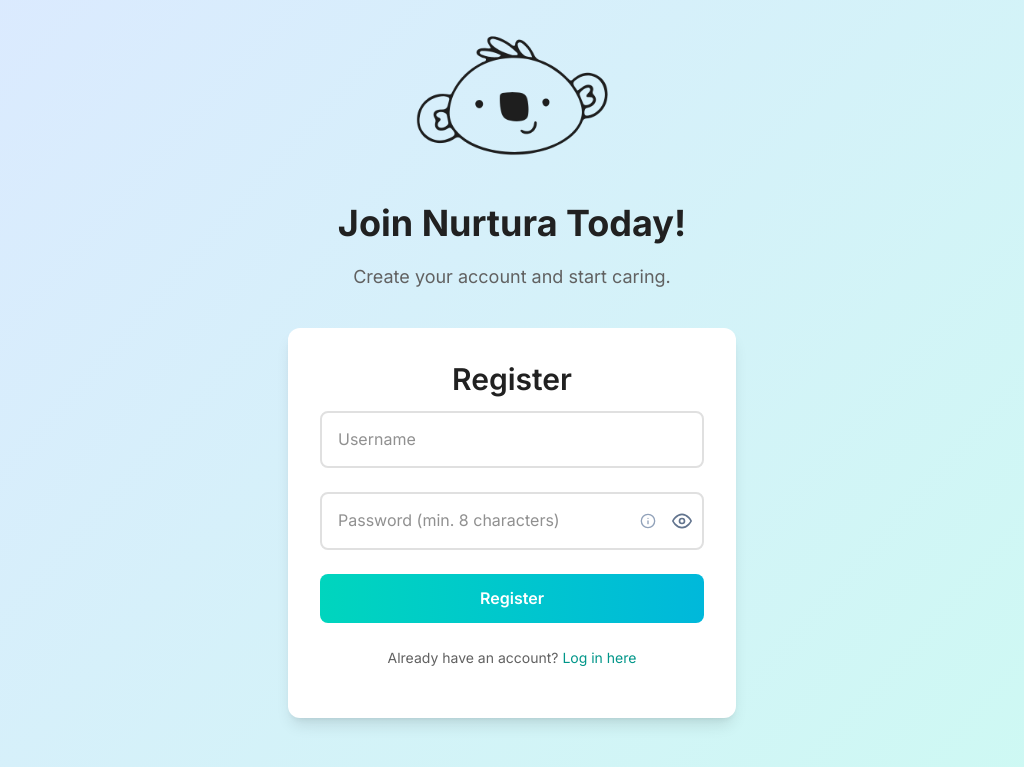
Registration Page › shows error for password without numbers
The image size is (1024, 767).
# Fill in registration form with invalid password
In the field with placeholder "Username": (512, 440) [320,411,704,469], type "NewUser"
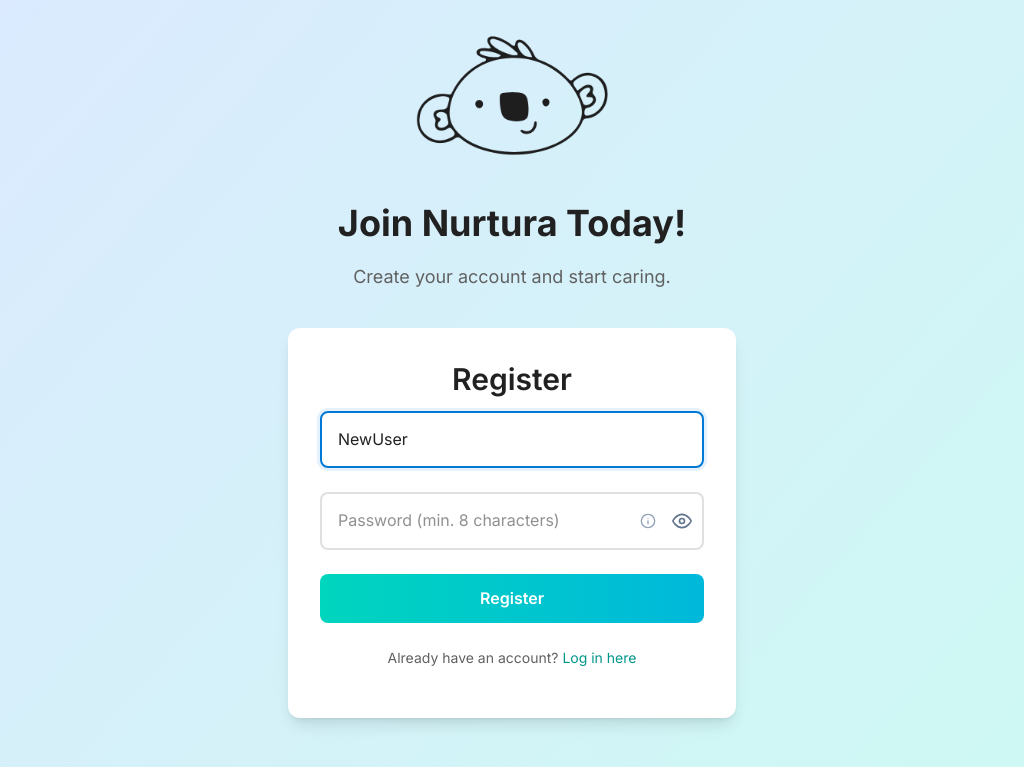
In the password field with placeholder "Password (min. 8 characters)": (512, 521) [320,492,704,550], type "password"
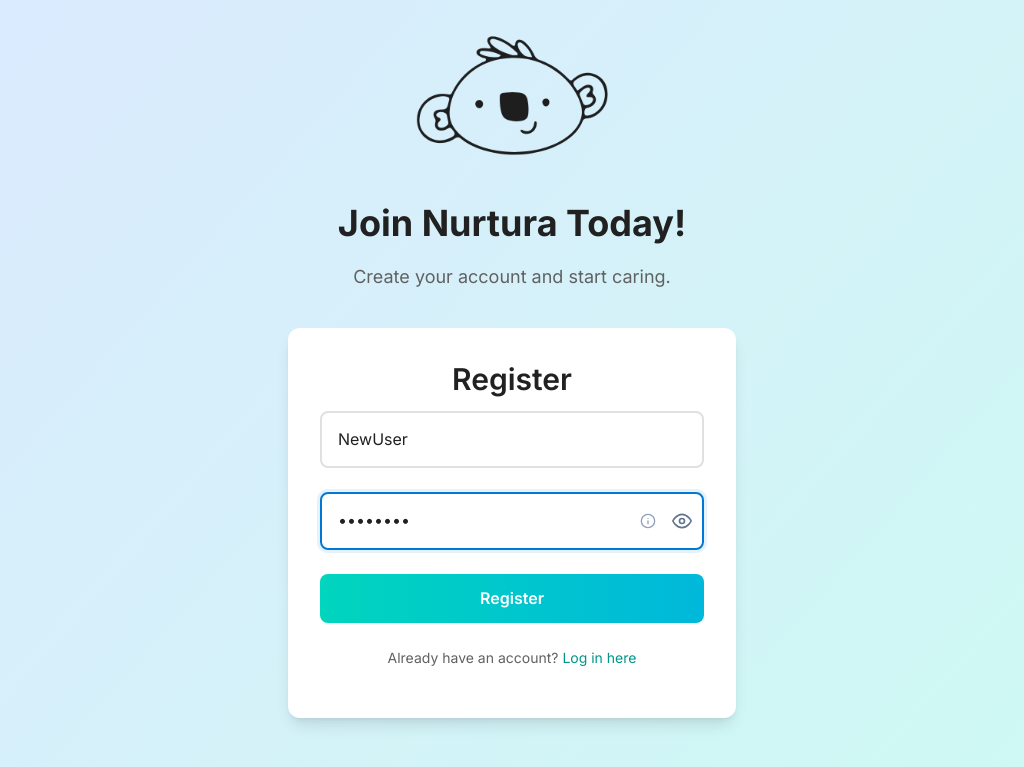
# Click submit
Click the submit button: (512, 599) [320,574,704,624]
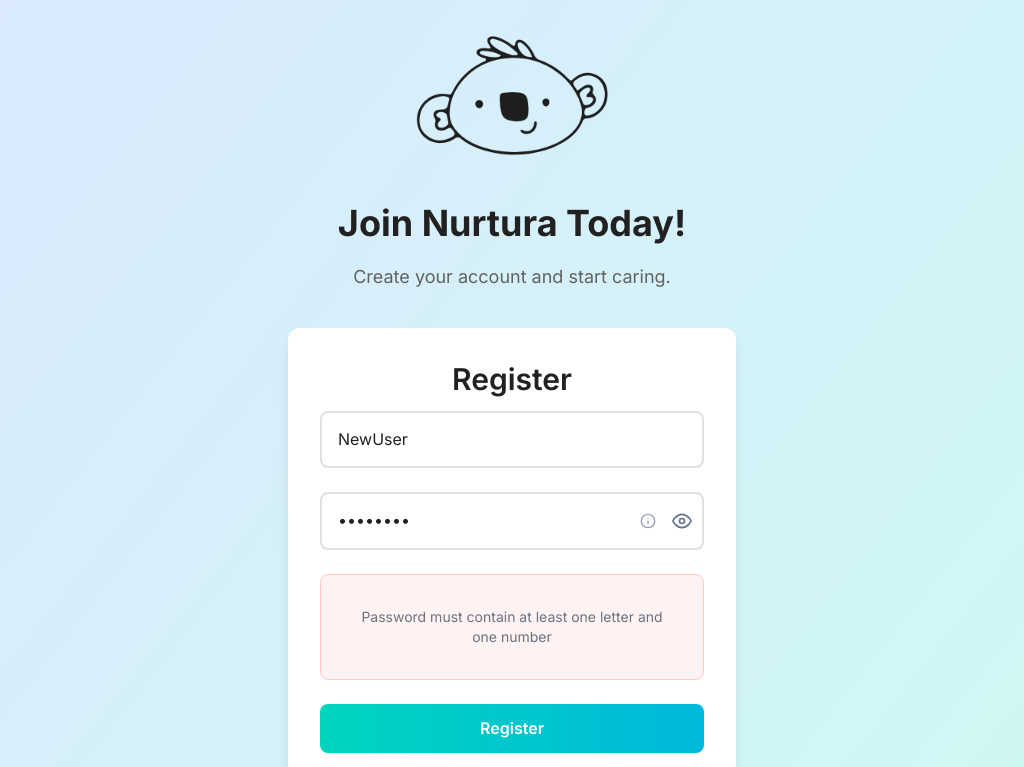
Now the text with class "error-message" reads "Password must contain at least one letter and one number", box [361,608,662,645]
